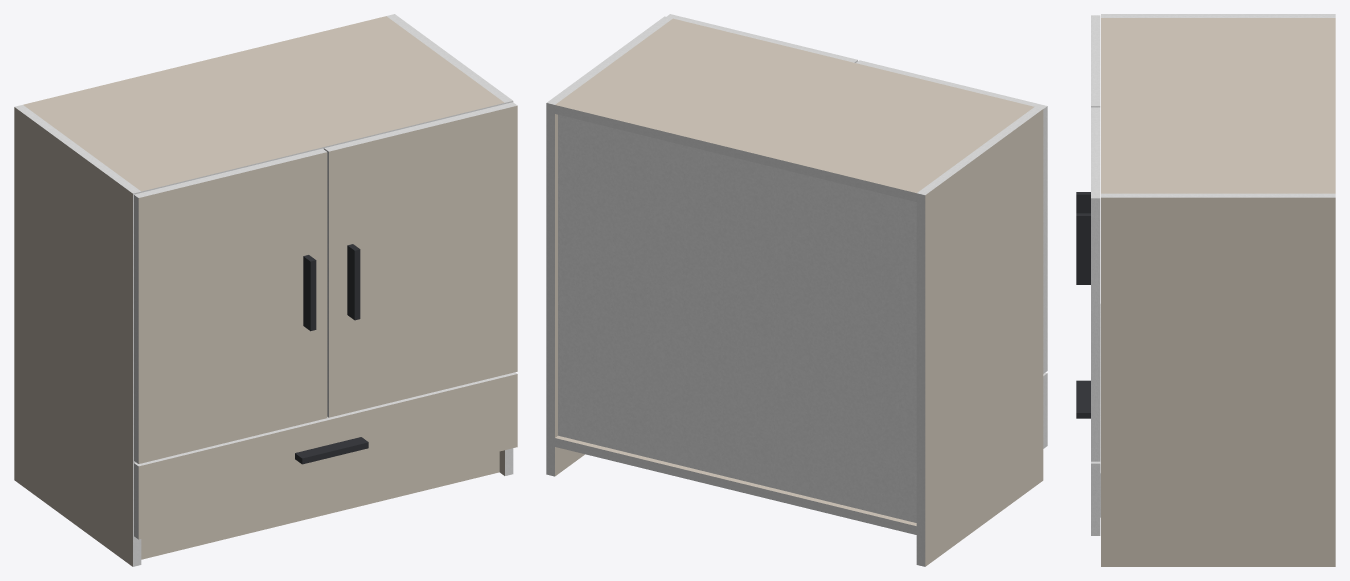
The model's file is CAL-CAB-std.glb.
The picture shows the model from 3 angles, left to right: view 1: azimuth 30°, elevation 25°; view 2: azimuth 150°, elevation 25°; view 3: azimuth 270°, elevation 25°; orthographic projection.
Parts seen in each view (by area): view 1: door-l:pbr, door-r:pbr, side-l:pbr, top:pbr, d1-front:pbr, plinth:pbr, pull, door-l:sheet:eyJtIjoibWRmIiwic2lkZSI6ImVkZ2UtbG9uZyIsInNlZWQ, d1-front:sheet:eyJtIjoibWRmIiwic2lkZSI6ImVkZ2UtbG9uZyIsInNlZ, side-l:sheet:eyJtIjoibWRmIiwic2lkZSI6ImVkZ2UtZW5kIiwic2VlZCI, side-r:sheet:eyJtIjoibWRmIiwic2lkZSI6ImVkZ2UtZW5kIiwic2VlZCI, door-l:sheet:eyJtIjoibWRmIiwic2lkZSI6ImVkZ2UtZW5kIiwic2VlZCI (+2 smaller); view 2: back:sheet:eyJtIjoibWRmIiwic2lkZSI6ImZhY2UiLCJzZWVkIjoyLCJ0a, side-l:pbr, top:pbr, side-l:sheet:eyJtIjoibWRmIiwic2lkZSI6ImVkZ2UtbG9uZyIsInNlZWQ, top:sheet:eyJtIjoibWRmIiwic2lkZSI6ImVkZ2UtbG9uZyIsInNlZWQiOj, bottom:sheet:eyJtIjoibWRmIiwic2lkZSI6ImVkZ2UtbG9uZyIsInNlZWQ, side-r:sheet:eyJtIjoibWRmIiwic2lkZSI6ImVkZ2UtbG9uZyIsInNlZWQ, side-r:pbr, bottom:pbr, door-l:sheet:eyJtIjoibWRmIiwic2lkZSI6ImVkZ2UtbG9uZyIsInNlZWQ, side-l:sheet:eyJtIjoibWRmIiwic2lkZSI6ImVkZ2UtZW5kIiwic2VlZCI, side-r:sheet:eyJtIjoibWRmIiwic2lkZSI6ImVkZ2UtZW5kIiwic2VlZCI (+2 smaller); view 3: side-r:pbr, top:pbr, door-r:sheet:eyJtIjoibWRmIiwic2lkZSI6ImVkZ2UtbG9uZyIsInNlZWQ, pull, side-r:sheet:eyJtIjoibWRmIiwic2lkZSI6ImVkZ2UtZW5kIiwic2VlZCI, side-l:sheet:eyJtIjoibWRmIiwic2lkZSI6ImVkZ2UtZW5kIiwic2VlZCI, door-l:sheet:eyJtIjoibWRmIiwic2lkZSI6ImVkZ2UtZW5kIiwic2VlZCI, door-r:sheet:eyJtIjoibWRmIiwic2lkZSI6ImVkZ2UtZW5kIiwic2VlZCI, d1-front:sheet:eyJtIjoibWRmIiwic2lkZSI6ImVkZ2UtZW5kIiwic2VlZ.
Boxes of the visible parts, x1,y1,x2,y2 form: door-l:pbr: (138,152,327,463); door-r:pbr: (329,105,517,417); side-l:pbr: (14,107,132,566); top:pbr: (23,16,504,191); d1-front:pbr: (138,374,517,539); plinth:pbr: (141,451,499,559); pull: (295,244,368,464); door-l:sheet:eyJtIjoibWRmIiwic2lkZSI6ImVkZ2UtbG9uZyIsInNlZWQ: (134,195,138,463); d1-front:sheet:eyJtIjoibWRmIiwic2lkZSI6ImVkZ2UtbG9uZyIsInNlZ: (134,372,517,466); side-l:sheet:eyJtIjoibWRmIiwic2lkZSI6ImVkZ2UtZW5kIiwic2VlZCI: (14,105,140,193); side-r:sheet:eyJtIjoibWRmIiwic2lkZSI6ImVkZ2UtZW5kIiwic2VlZCI: (386,14,512,102); door-l:sheet:eyJtIjoibWRmIiwic2lkZSI6ImVkZ2UtZW5kIiwic2VlZCI: (134,148,326,197); back:sheet:eyJtIjoibWRmIiwic2lkZSI6ImZhY2UiLCJzZWVkIjoyLCJ0a: (558,114,916,522); side-l:pbr: (925,109,1043,566); top:pbr: (555,18,1034,193); side-l:sheet:eyJtIjoibWRmIiwic2lkZSI6ImVkZ2UtbG9uZyIsInNlZWQ: (916,193,925,566); top:sheet:eyJtIjoibWRmIiwic2lkZSI6ImVkZ2UtbG9uZyIsInNlZWQiOj: (555,105,916,201); bottom:sheet:eyJtIjoibWRmIiwic2lkZSI6ImVkZ2UtbG9uZyIsInNlZWQ: (555,438,916,534); side-r:sheet:eyJtIjoibWRmIiwic2lkZSI6ImVkZ2UtbG9uZyIsInNlZWQ: (546,103,554,476); side-r:pbr: (555,114,584,476); bottom:pbr: (555,435,916,525); door-l:sheet:eyJtIjoibWRmIiwic2lkZSI6ImVkZ2UtbG9uZyIsInNlZWQ: (1043,106,1047,373); side-l:sheet:eyJtIjoibWRmIiwic2lkZSI6ImVkZ2UtZW5kIiwic2VlZCI: (917,107,1042,194); side-r:sheet:eyJtIjoibWRmIiwic2lkZSI6ImVkZ2UtZW5kIiwic2VlZCI: (547,16,672,104); side-r:pbr: (1101,197,1335,566); top:pbr: (1101,18,1335,193); door-r:sheet:eyJtIjoibWRmIiwic2lkZSI6ImVkZ2UtbG9uZyIsInNlZWQ: (1091,198,1100,461); pull: (1076,192,1090,418); side-r:sheet:eyJtIjoibWRmIiwic2lkZSI6ImVkZ2UtZW5kIiwic2VlZCI: (1101,193,1335,197); side-l:sheet:eyJtIjoibWRmIiwic2lkZSI6ImVkZ2UtZW5kIiwic2VlZCI: (1101,14,1335,17); door-l:sheet:eyJtIjoibWRmIiwic2lkZSI6ImVkZ2UtZW5kIiwic2VlZCI: (1091,15,1100,106); door-r:sheet:eyJtIjoibWRmIiwic2lkZSI6ImVkZ2UtZW5kIiwic2VlZCI: (1091,107,1100,198); d1-front:sheet:eyJtIjoibWRmIiwic2lkZSI6ImVkZ2UtZW5kIiwic2VlZ: (1091,463,1100,535).
Bounding box in the file's own units: 0.8 × 0.75 × 0.4769.
55 materials, 42 textured.
